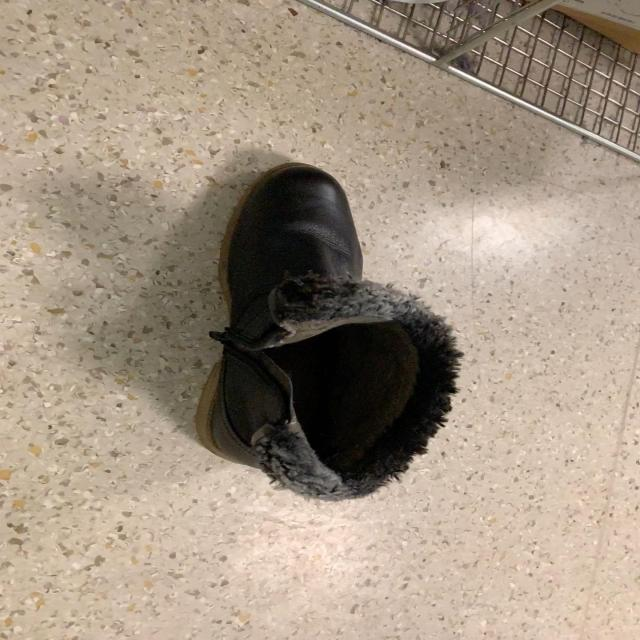shoe: (200, 163, 363, 459)
